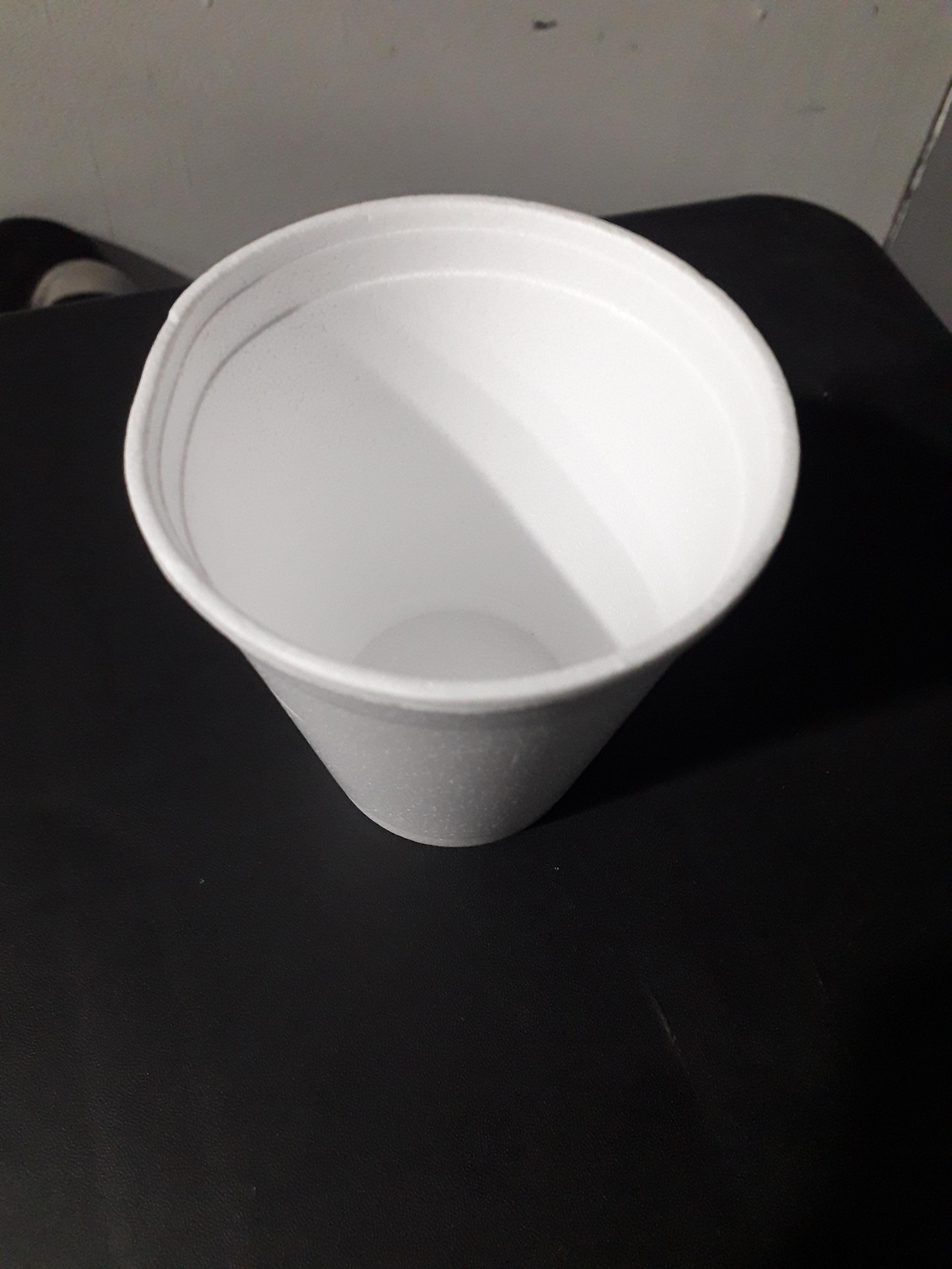cup-disposable: (121, 184, 803, 848)
